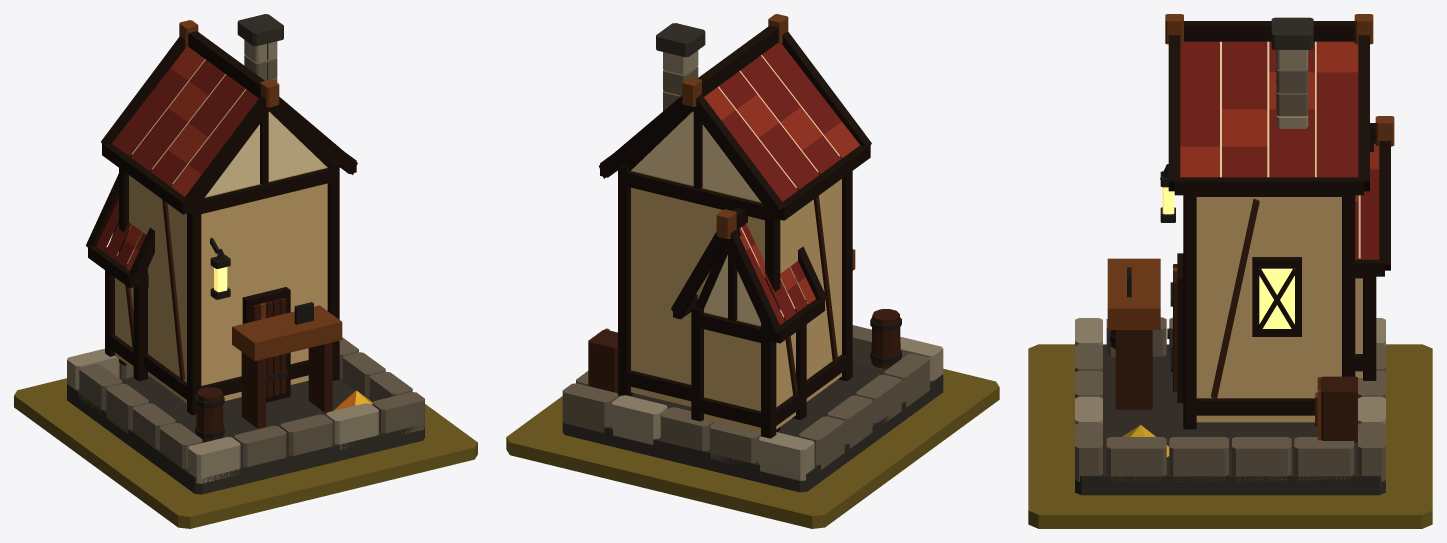
Rendered from butchery_t5.glb.
3 views of the same model, side by side, from view 1: azimuth 30°, elevation 25°; view 2: azimuth 150°, elevation 25°; view 3: azimuth 270°, elevation 25° (orthographic). The views are drawn at different scales.
Parts seen in each view (by area): view 1: MMR | butchery | T05 Architecture.001, MMR | butchery | Tier 05 Ground.001; view 2: MMR | butchery | T05 Architecture.001, MMR | butchery | Tier 05 Ground.001; view 3: MMR | butchery | T05 Architecture.001, MMR | butchery | Tier 05 Ground.001.
Part boxes in pixels (box(x1,y1,x2,y2)): MMR | butchery | T05 Architecture.001: box(67, 14, 424, 494); MMR | butchery | Tier 05 Ground.001: box(14, 378, 477, 528); MMR | butchery | T05 Architecture.001: box(562, 14, 943, 492); MMR | butchery | Tier 05 Ground.001: box(506, 368, 999, 528); MMR | butchery | T05 Architecture.001: box(1075, 14, 1394, 495); MMR | butchery | Tier 05 Ground.001: box(1028, 344, 1432, 528).
Bounding box in the file's own units: 1.3 × 1.56 × 1.3.
2 materials, 1 textured.
